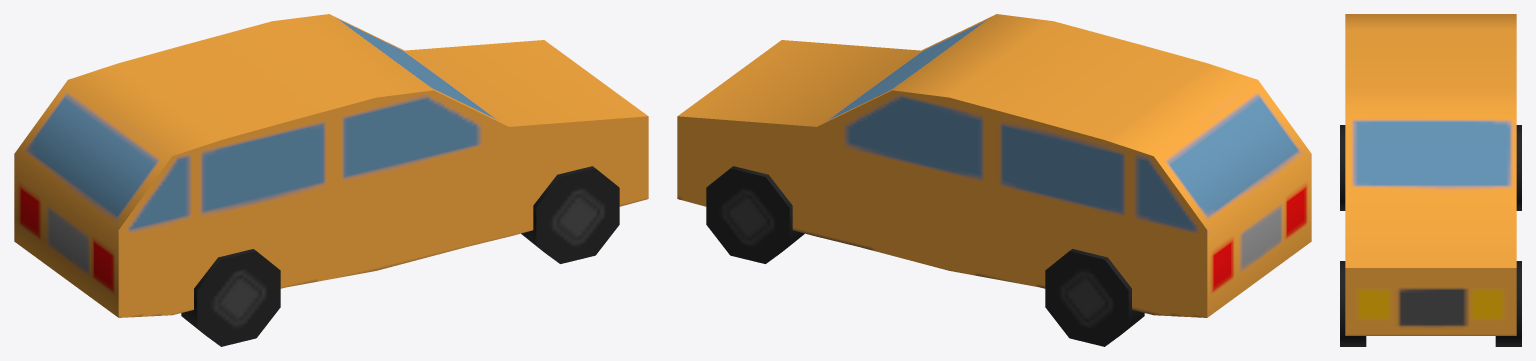
The model's file is Car03.glb.
3 renders of one model, left to right at view 1: azimuth 30°, elevation 25°; view 2: azimuth 150°, elevation 25°; view 3: azimuth 270°, elevation 25°, orthographic. The views are drawn at different scales.
Visible parts, largest first — view 1: Car03; view 2: Car03; view 3: Car03.
Boxes of the visible parts, left/top/right/bottom form: Car03: left=14, top=14, right=648, bottom=346; Car03: left=677, top=14, right=1311, bottom=346; Car03: left=1340, top=14, right=1521, bottom=346.
Size of what is drawn, in the model's own units: 4.16 by 1.56 by 1.5.
1 material, 1 textured.
